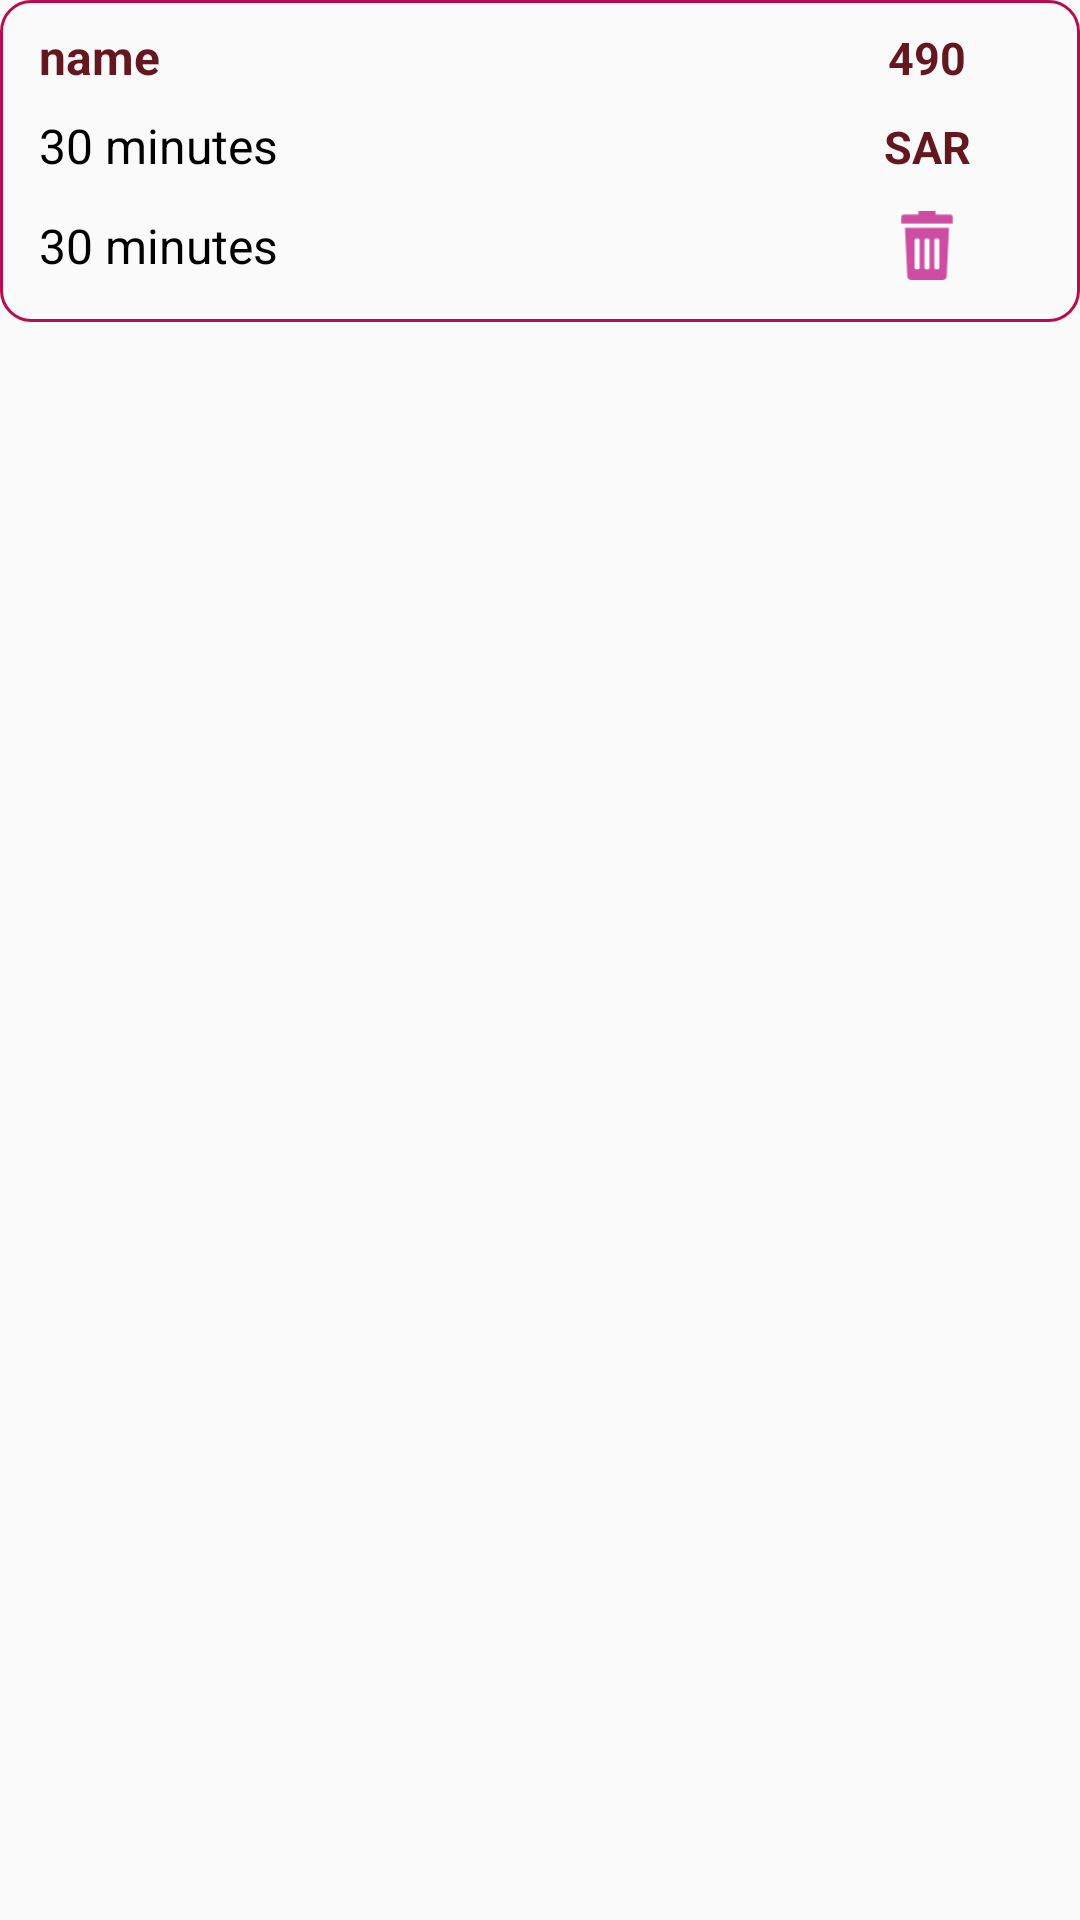

Icon bounding boxes for this 1080 × 1920 phone screenshot, format (x1, y1, x2, y2):
delete: (901, 211, 953, 280)
